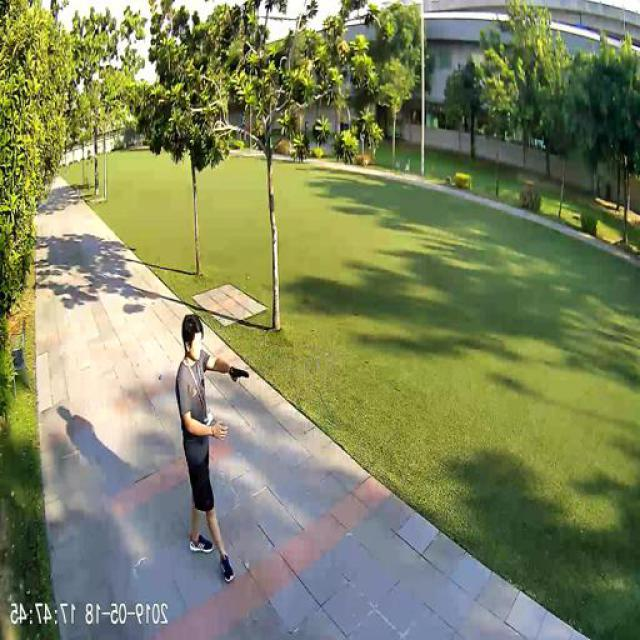Gun: (234, 364, 252, 380)
